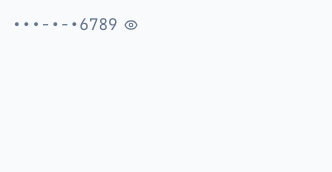
Test: MaskedText › Toggle Reveal Behavior › reveals full value on click
Click the button.
click(75, 25)  # box [12,13,138,37]
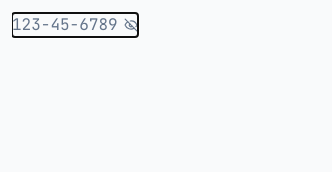
expect the text "123-45-6789" is shown: met, box [12,13,118,37]
